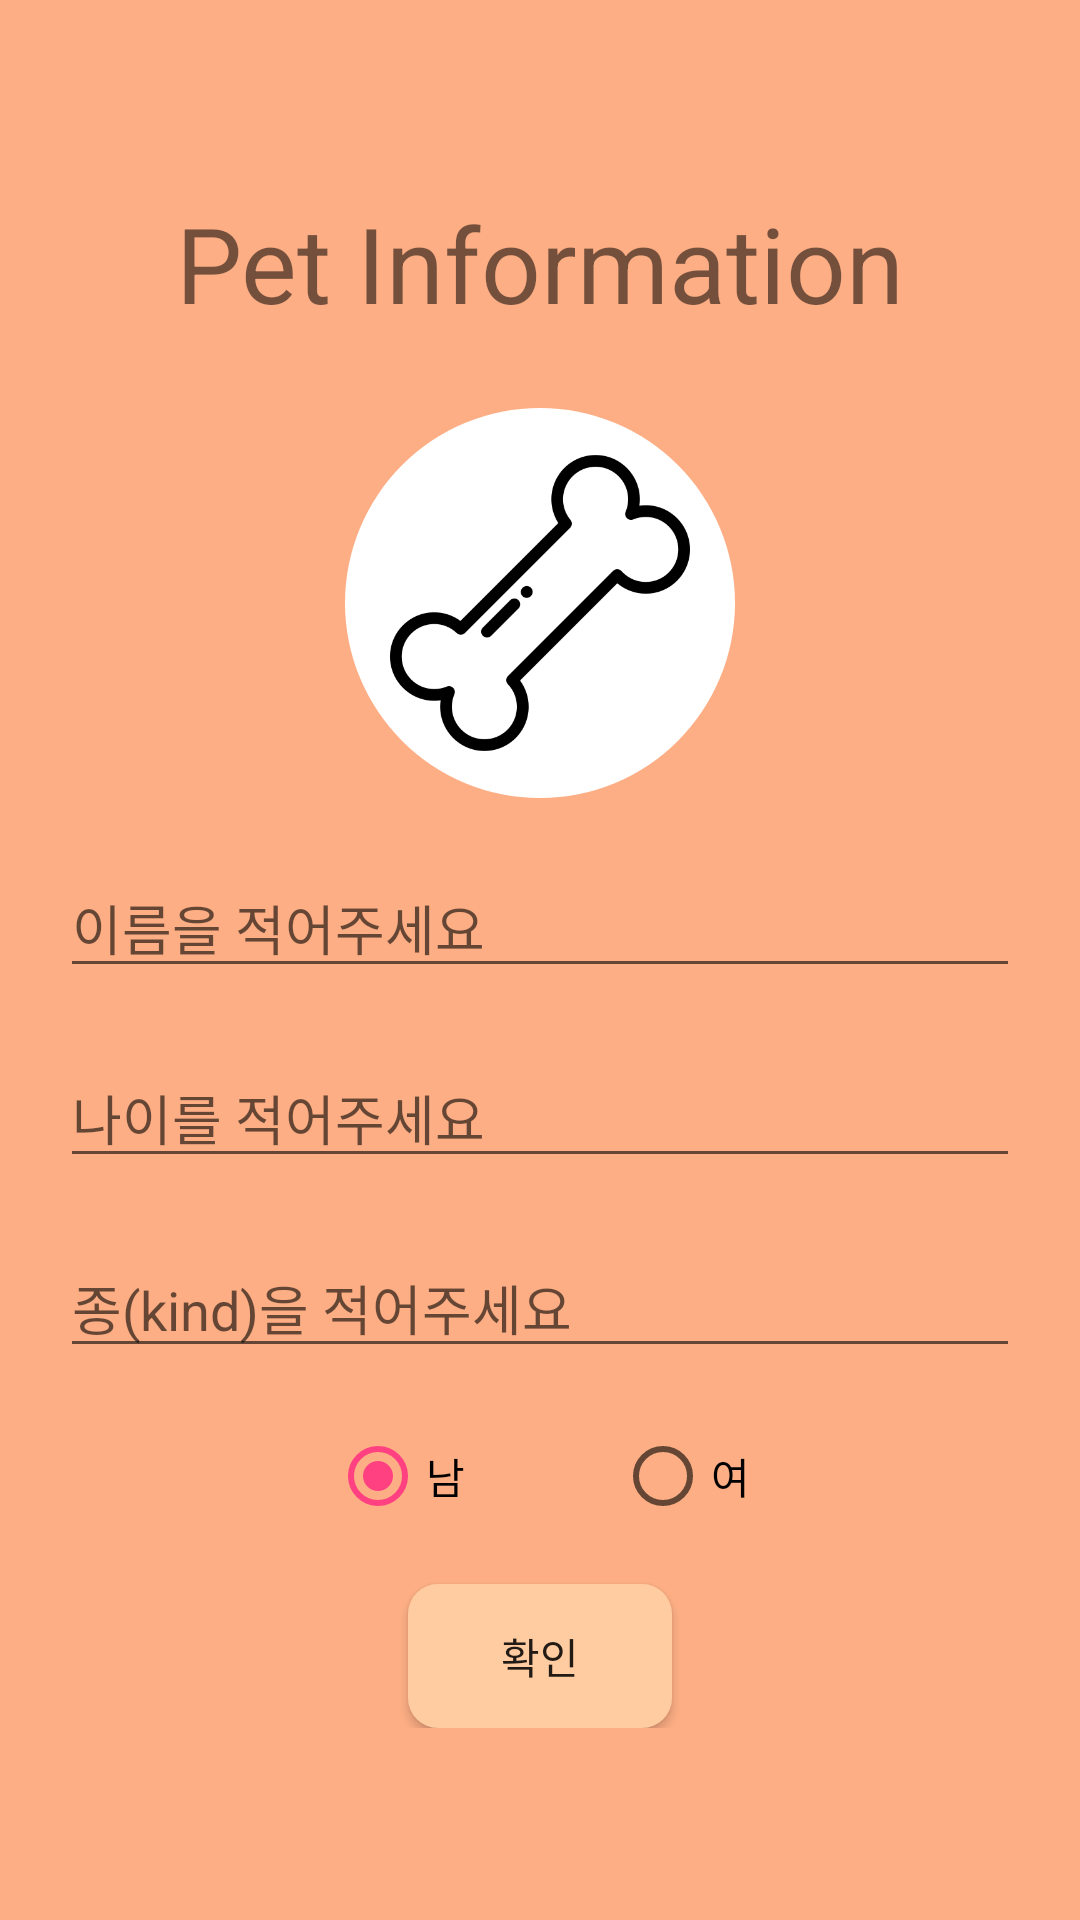

Point at icon controls on the screen. Image size 1080x1920, points as (x=x, y=y).
bone: (x=540, y=603)
